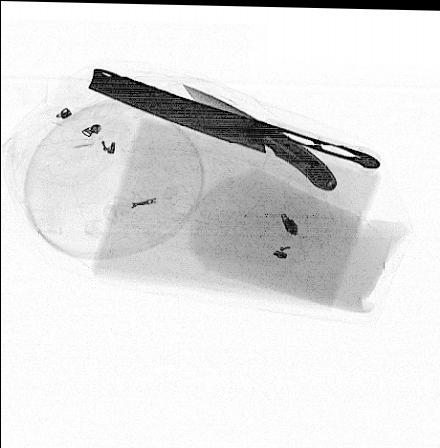Knife: (87, 66, 380, 167), (181, 79, 338, 189)
